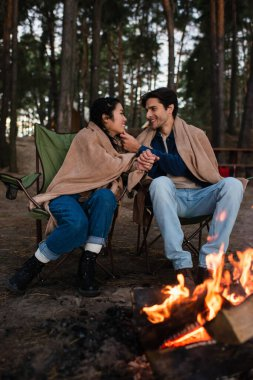fire: (144, 245, 253, 344)
